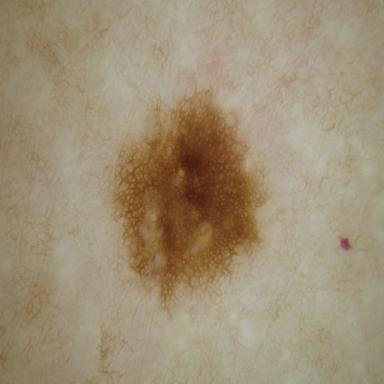nevus: (115, 92, 263, 305)
